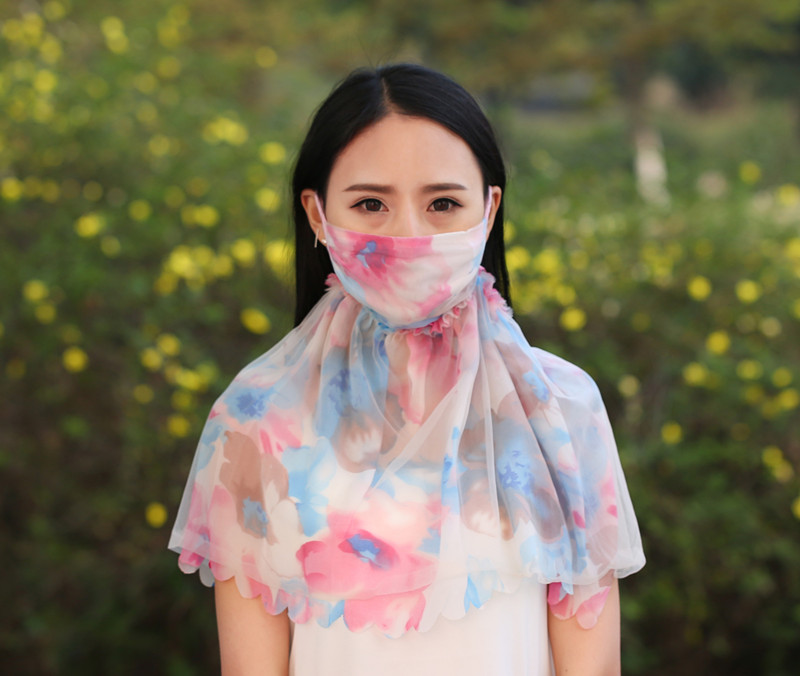face_mask: (327, 123, 491, 320)
